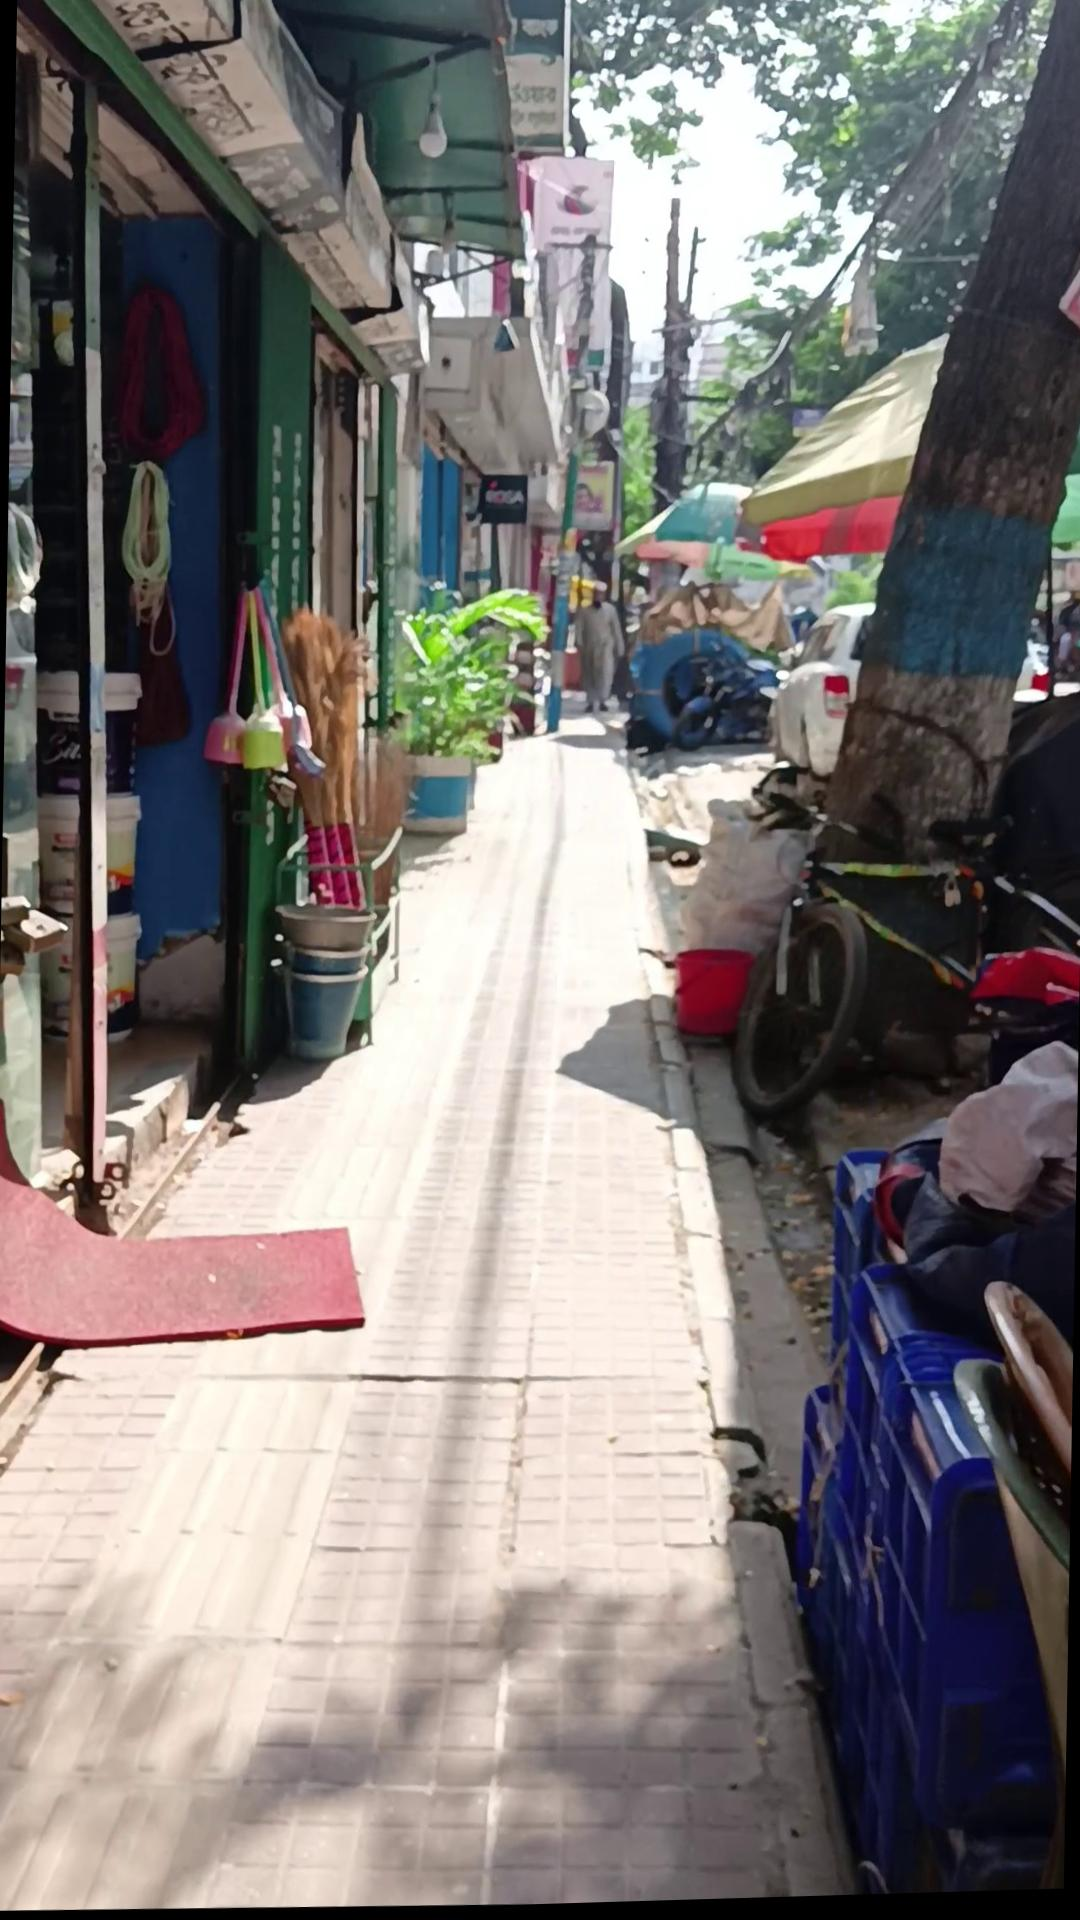Bollard: (766, 599, 1058, 790)
Broken-road: (605, 754, 894, 1905)
Curb: (571, 582, 626, 717)
Dog: (47, 74, 128, 1226), (542, 447, 579, 737)
Fallen-tree: (381, 579, 549, 841)
Garbage: (0, 708, 876, 1629)
